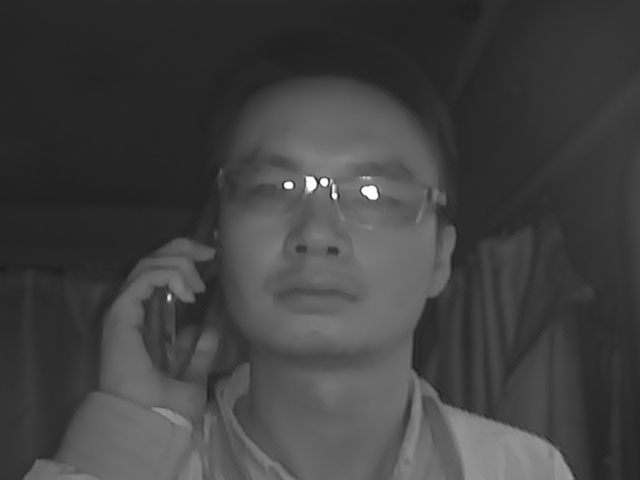hand: (96, 236, 222, 423)
